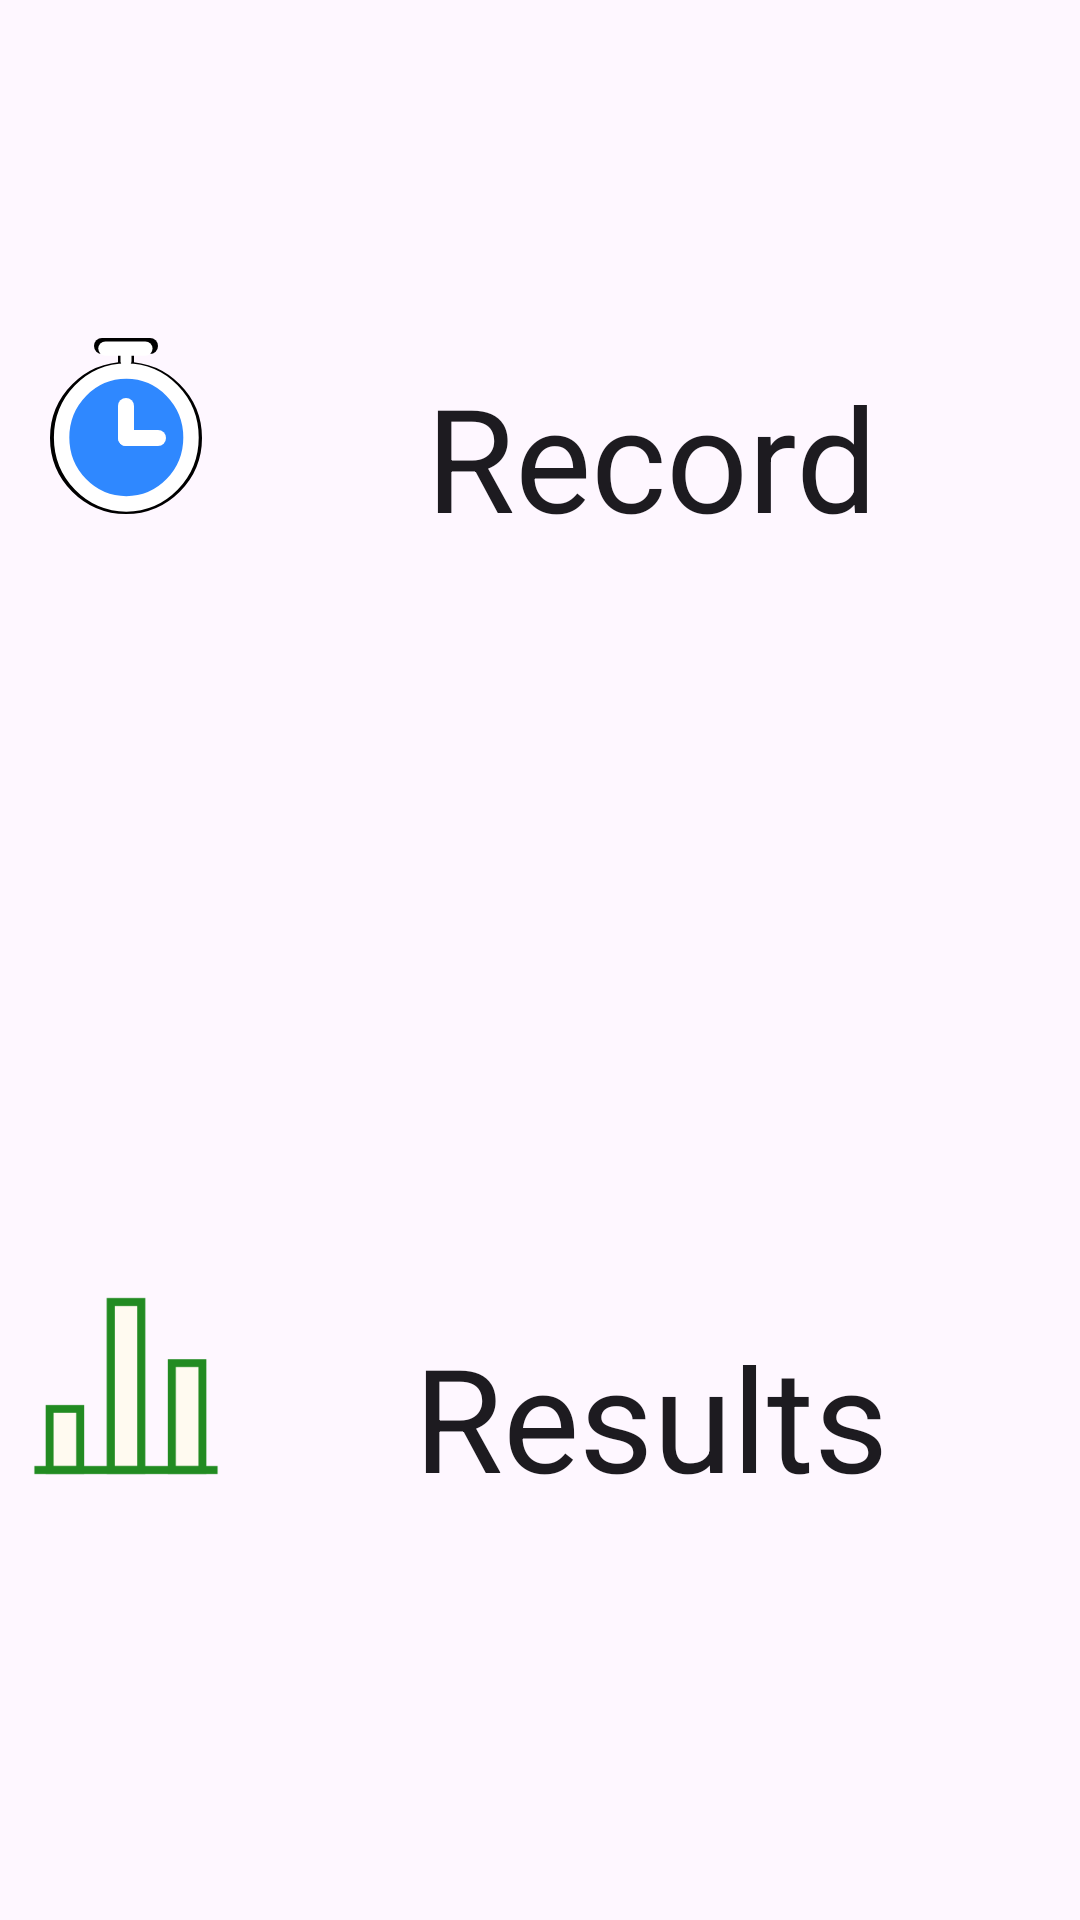

Icon bounding boxes for this 1080x1920 phone screenshot, format rect(x1, y1, x2, y2):
Chart: rect(34, 1297, 218, 1475)
